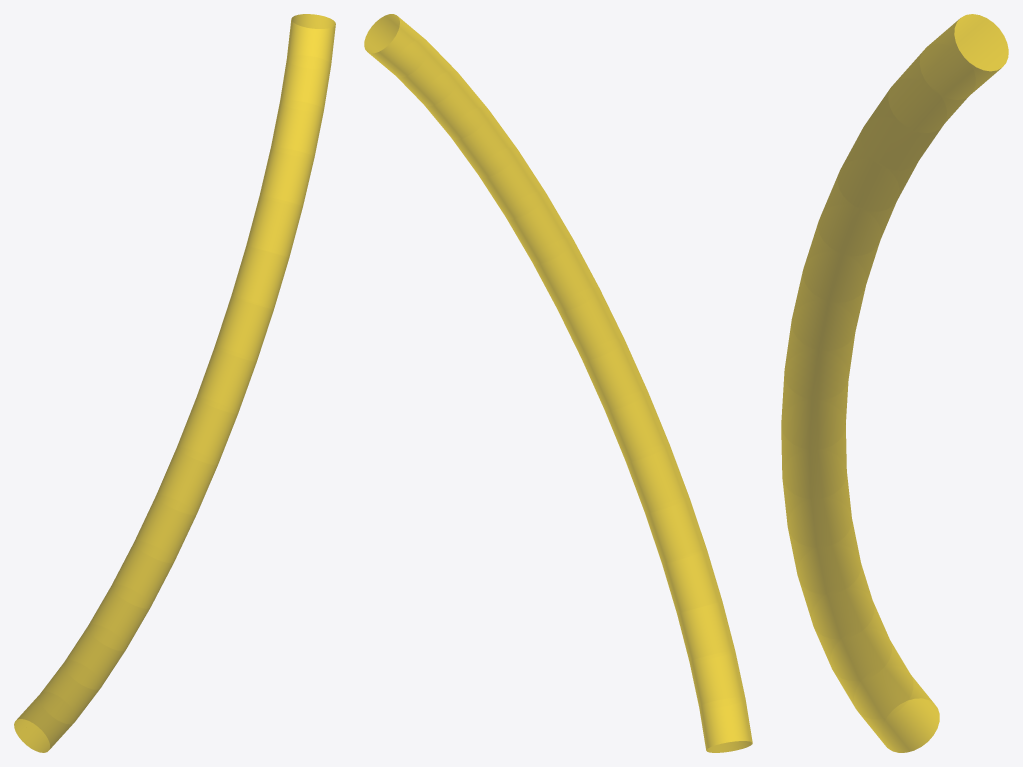
Rendered from Event_17758602_track_87.fbx.
3 renders of one model, left to right at view 1: azimuth 30°, elevation 25°; view 2: azimuth 150°, elevation 25°; view 3: azimuth 270°, elevation 25°, orthographic. The views are drawn at different scales.
Parts seen in each view (by area): view 1: Model; view 2: Model; view 3: Model.
Boxes of the visible parts, left/top/right/bottom form: Model: left=14, top=14, right=335, bottom=752; Model: left=364, top=14, right=752, bottom=752; Model: left=781, top=14, right=1008, bottom=752.
Size of the model in its own units: 0.3505 by 0.6372 by 0.1402.
